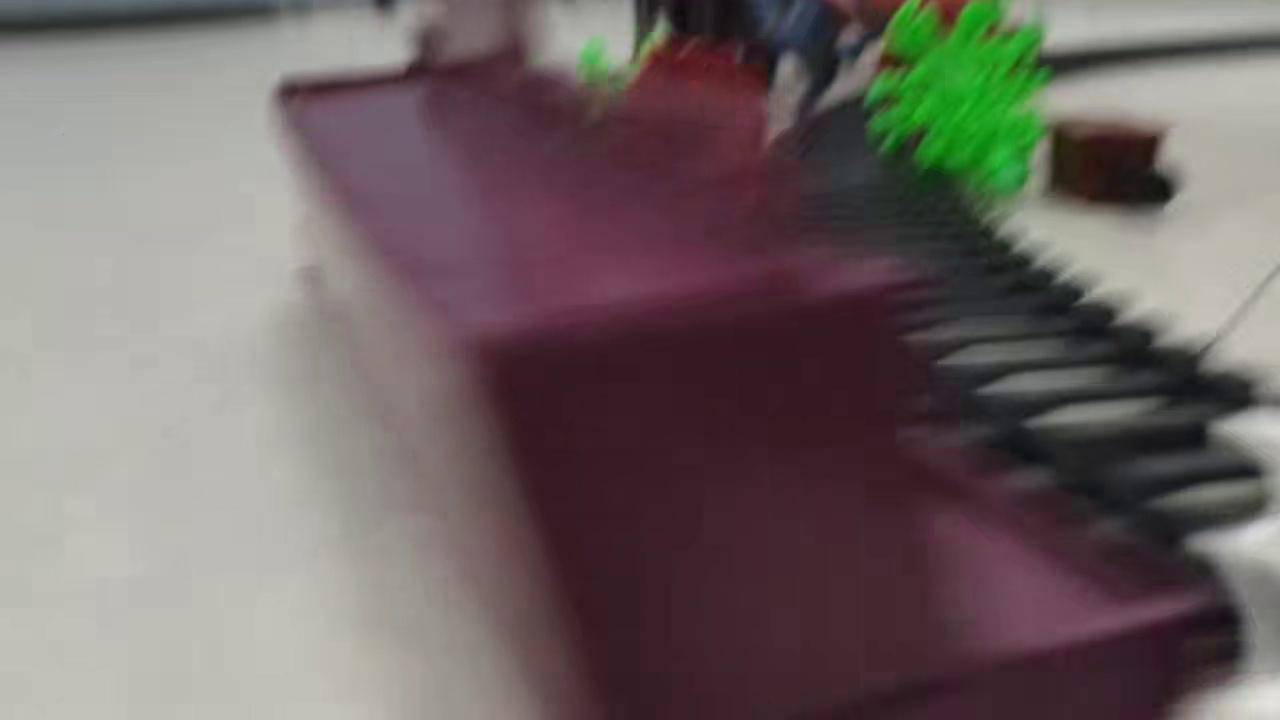box: (1051, 113, 1170, 208)
people: (770, 1, 850, 143)
tree: (861, 1, 1054, 197), (576, 12, 768, 157)
